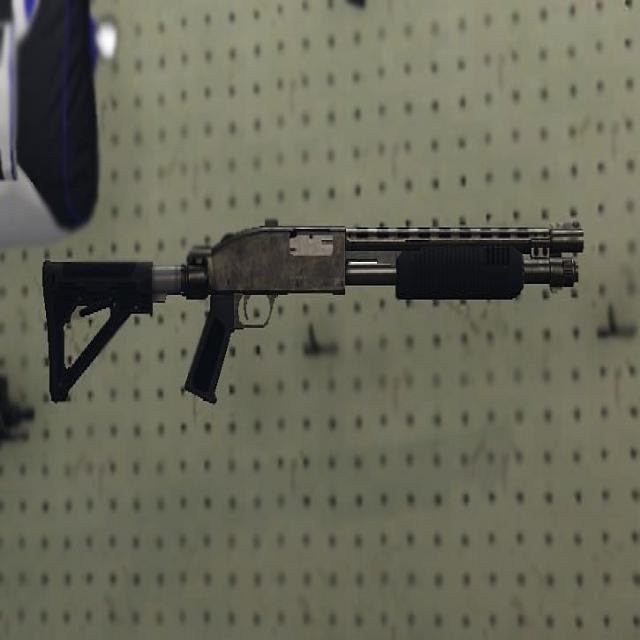ShotGun: (42, 226, 580, 405)
